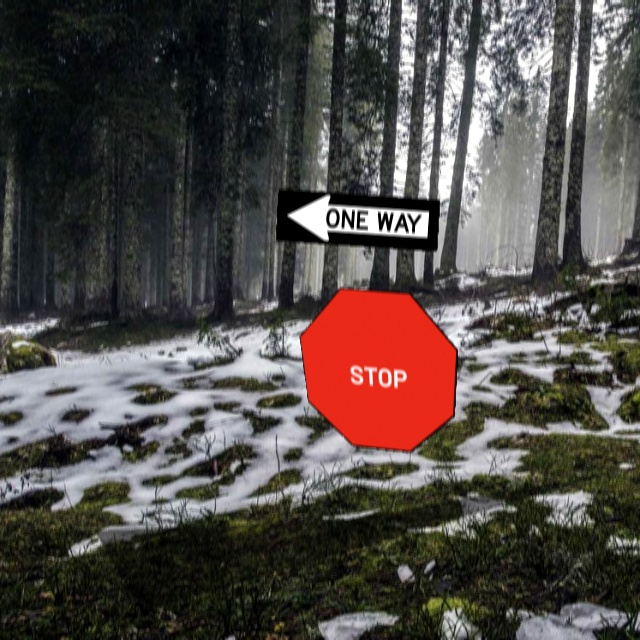ONE_WAY_ left: (275, 188, 440, 251)
STOP: (299, 287, 458, 452)
